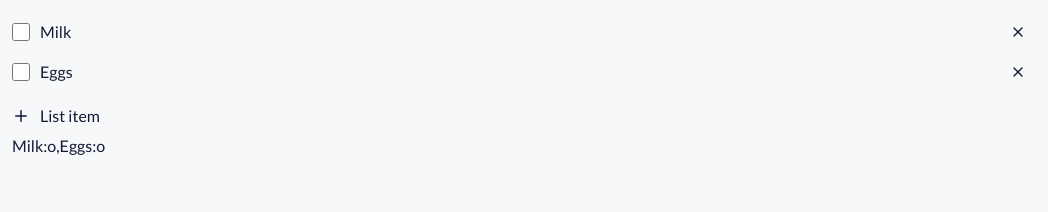
Test: ChecklistEditor › adds an item below on Enter and focuses it
Step 1. Click the 1st field named "List item" → (515,32), box left=40, top=14, right=990, bottom=50
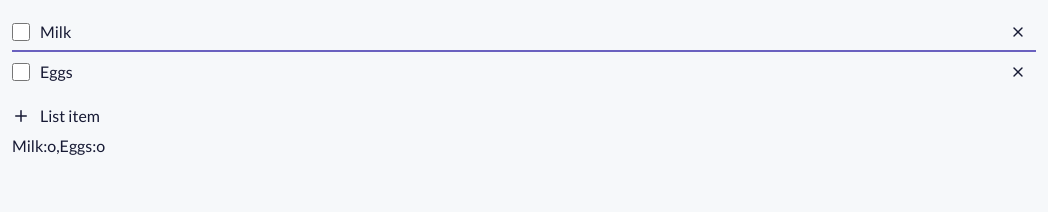
Step 2. Type keys "{Enter}Tea"
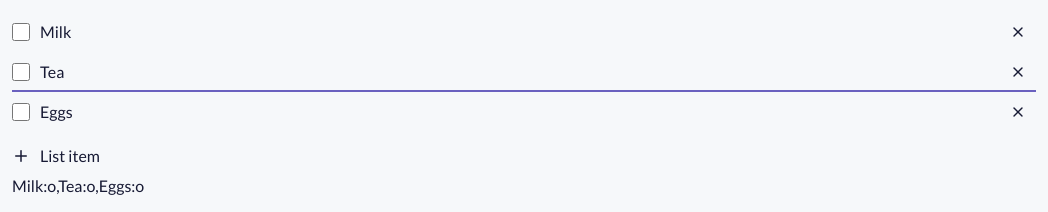
Expected: the text with test id "state" reads "Milk:o,Tea:o,Eggs:o", left=12, top=176, right=144, bottom=195
